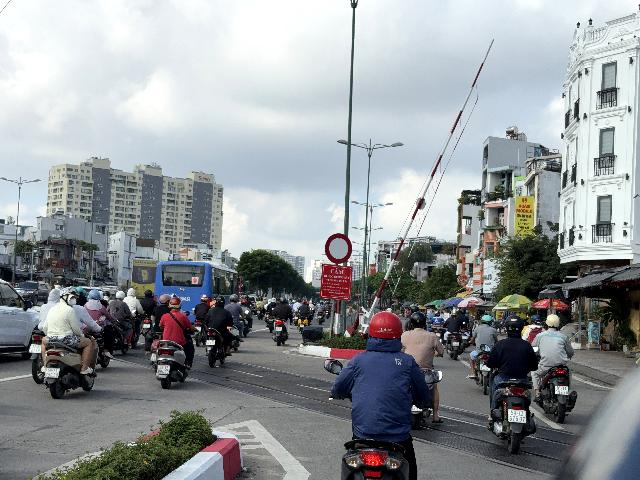duong-cam: (325, 233, 352, 263)
